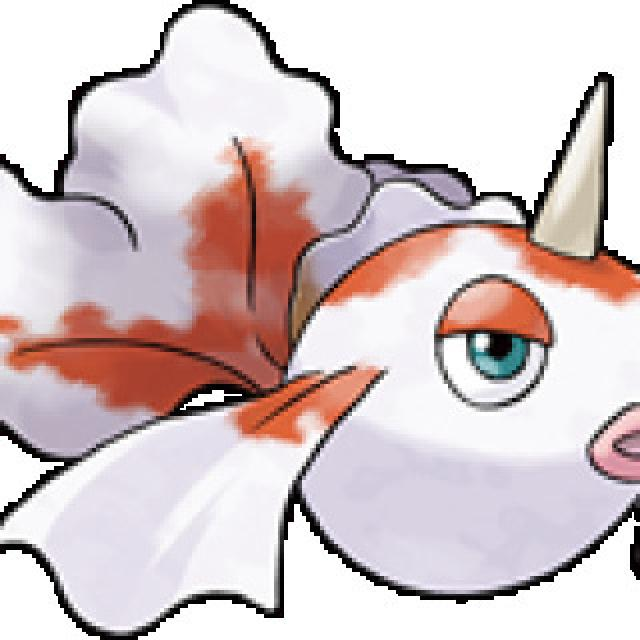Goldeen: (115, 59, 640, 593)
